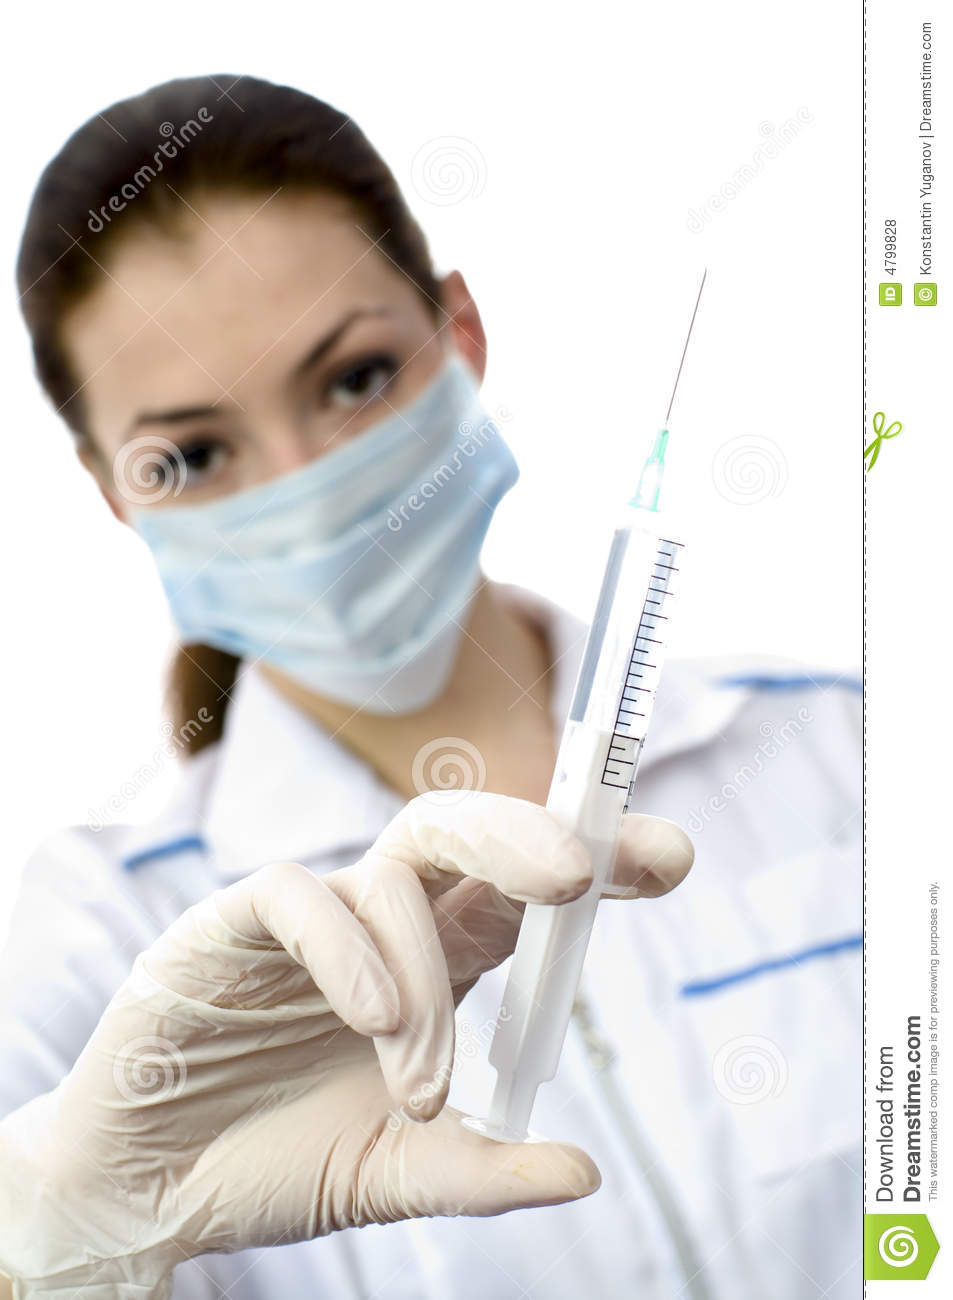mask: (148, 392, 520, 721)
